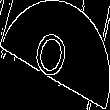O_SW: (33, 23, 77, 87)
